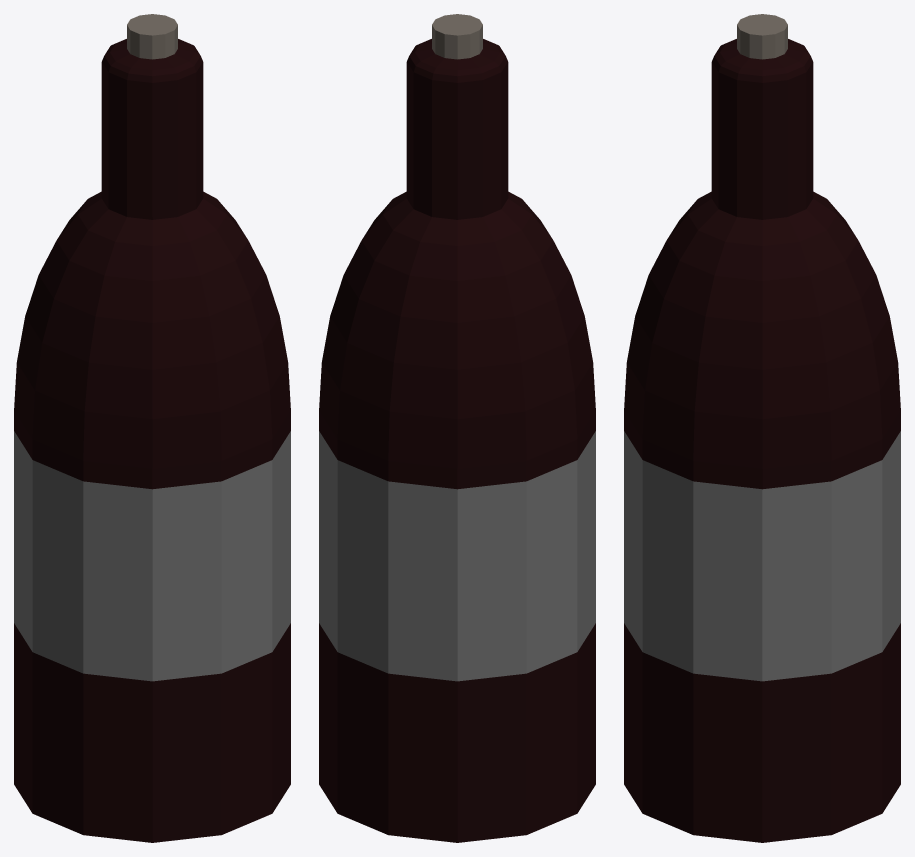
File: Alcohol_Bottle_05.fbx
3 renders of one model, left to right at view 1: azimuth 30°, elevation 25°; view 2: azimuth 150°, elevation 25°; view 3: azimuth 270°, elevation 25°, orthographic.
Visible parts, largest first — view 1: Bottle_05; view 2: Bottle_05; view 3: Bottle_05.
Part boxes in pixels (x1,y1,x2,y2): Bottle_05: (14,14,290,842); Bottle_05: (319,14,595,842); Bottle_05: (624,14,900,842).
Bounding box in the file's own units: 24.54 × 74.26 × 24.54.
